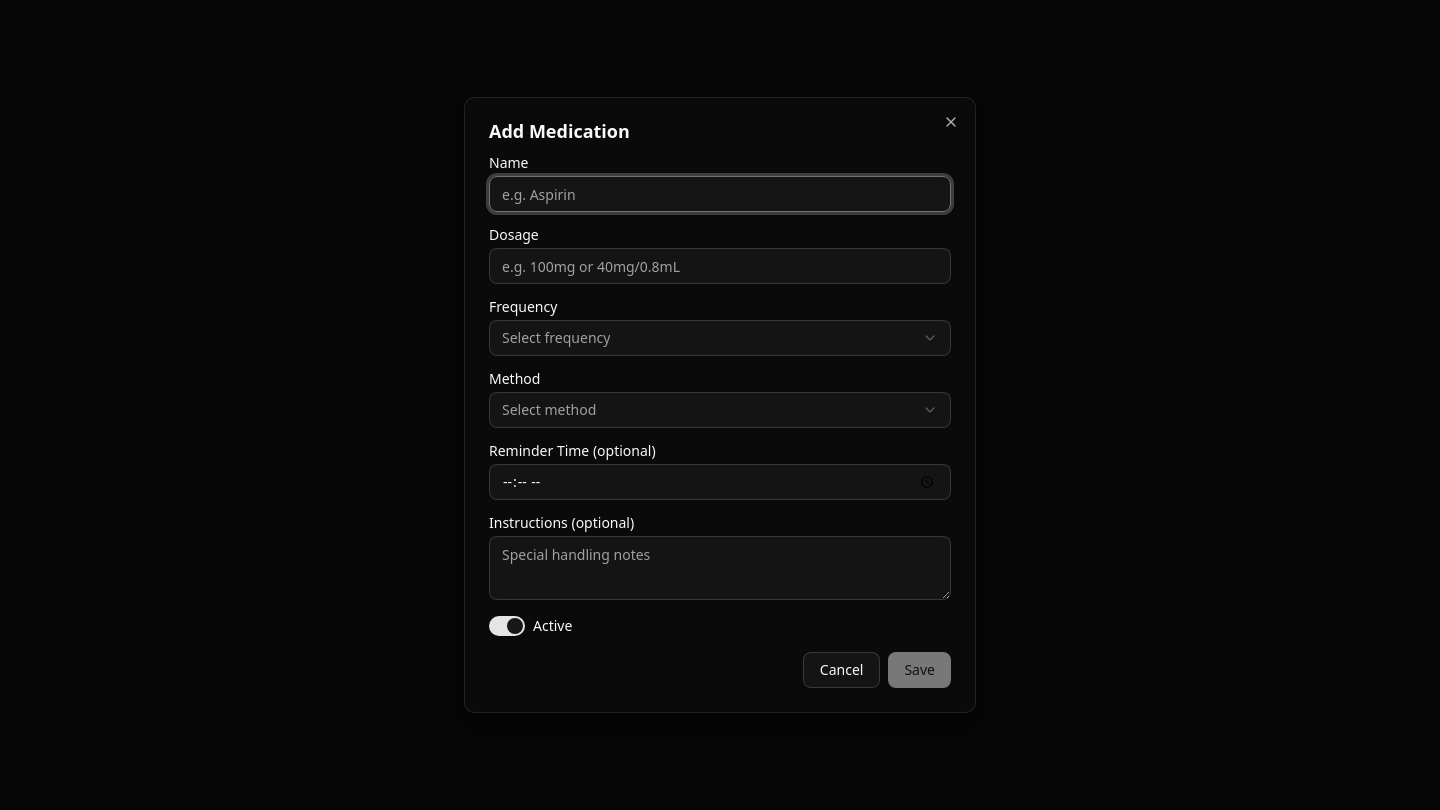
Scenario: MedicationForm › switching Frequency to Daily clears Scheduled Day from form state
Note: First set to Weekly
Click the dropdown labelled "Select frequency" at (556, 338), box [489,320,951,356]
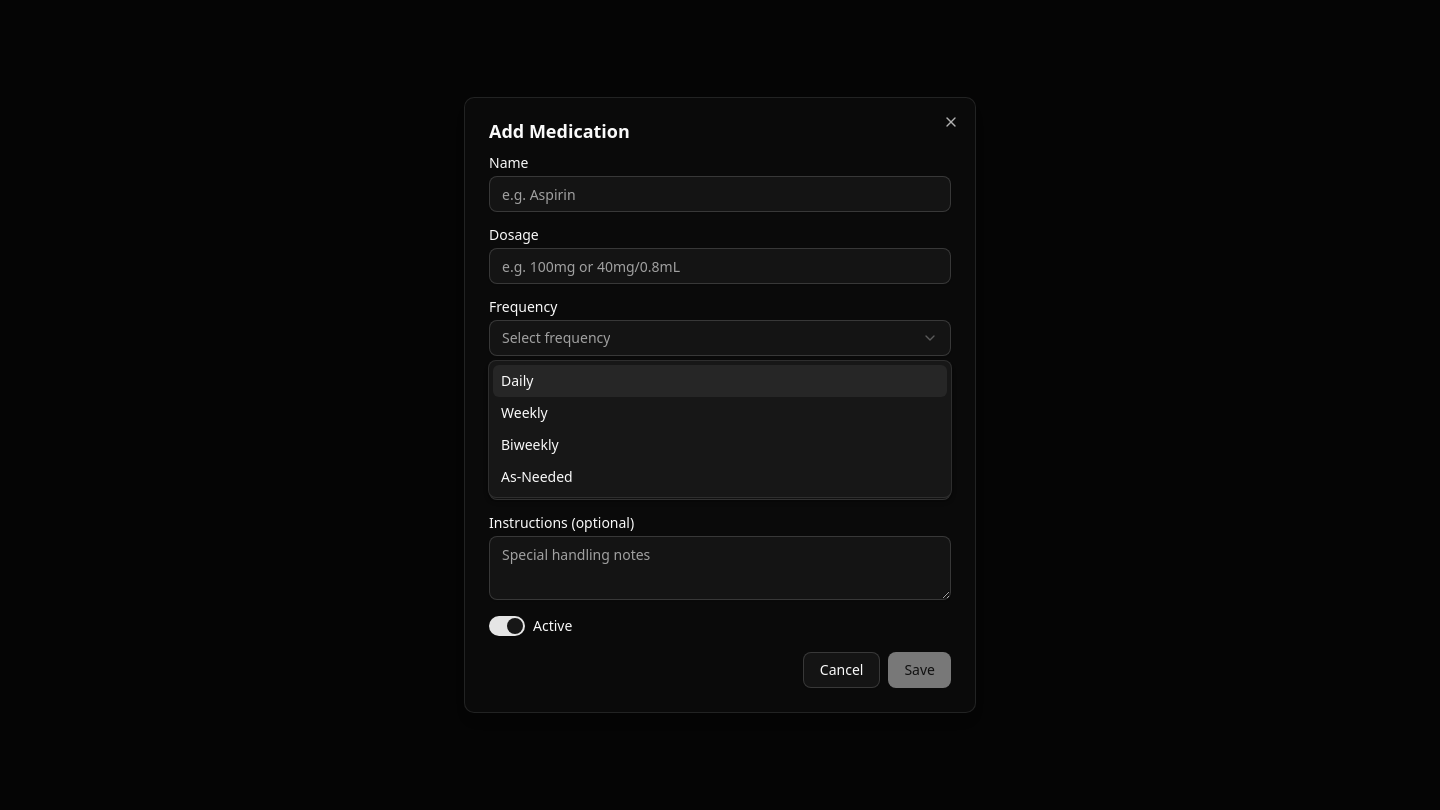
Click the option "Weekly" at (524, 412), box [501,403,548,422]
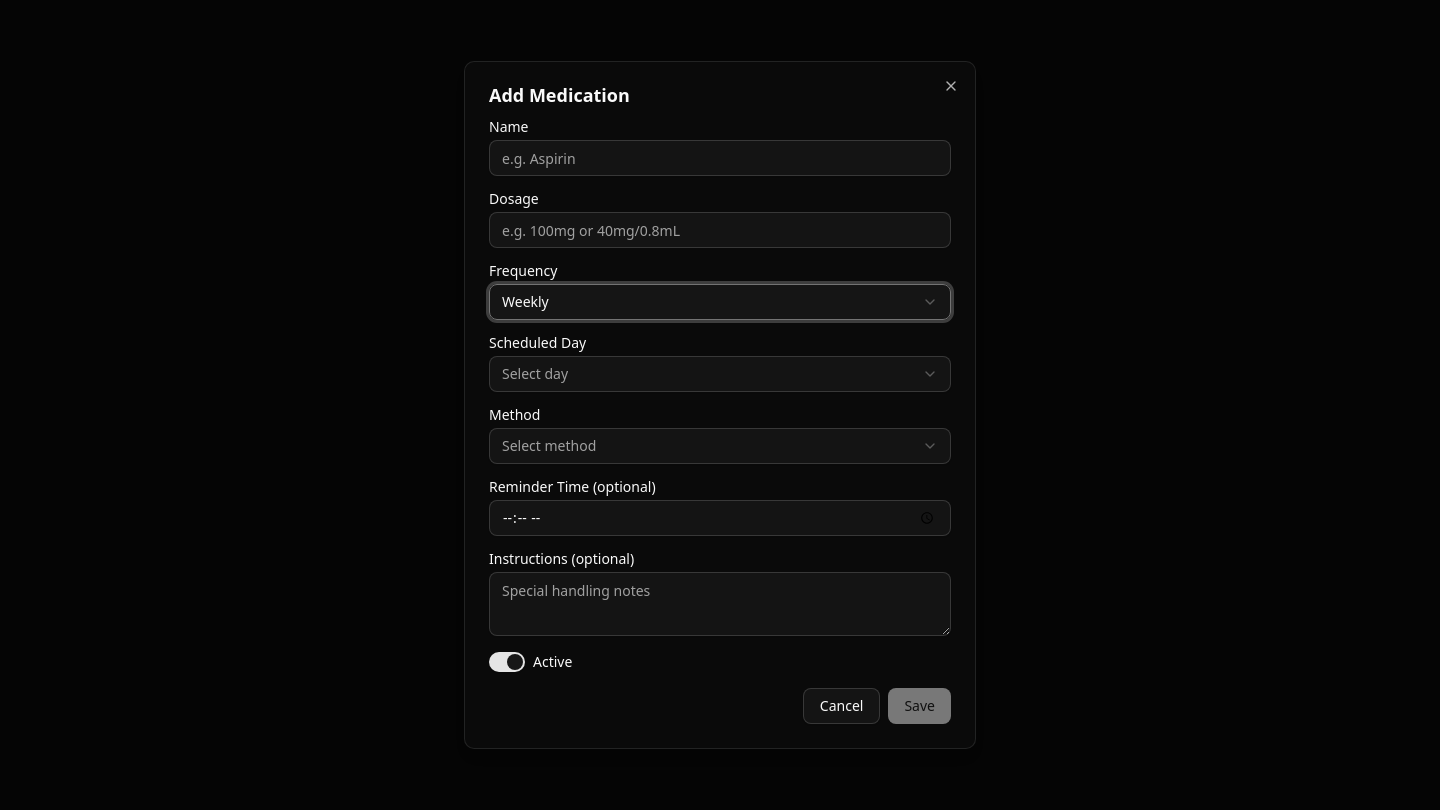
Note: Select a day
Click the dropdown named "scheduled day" at (535, 374), box [489,356,951,392]
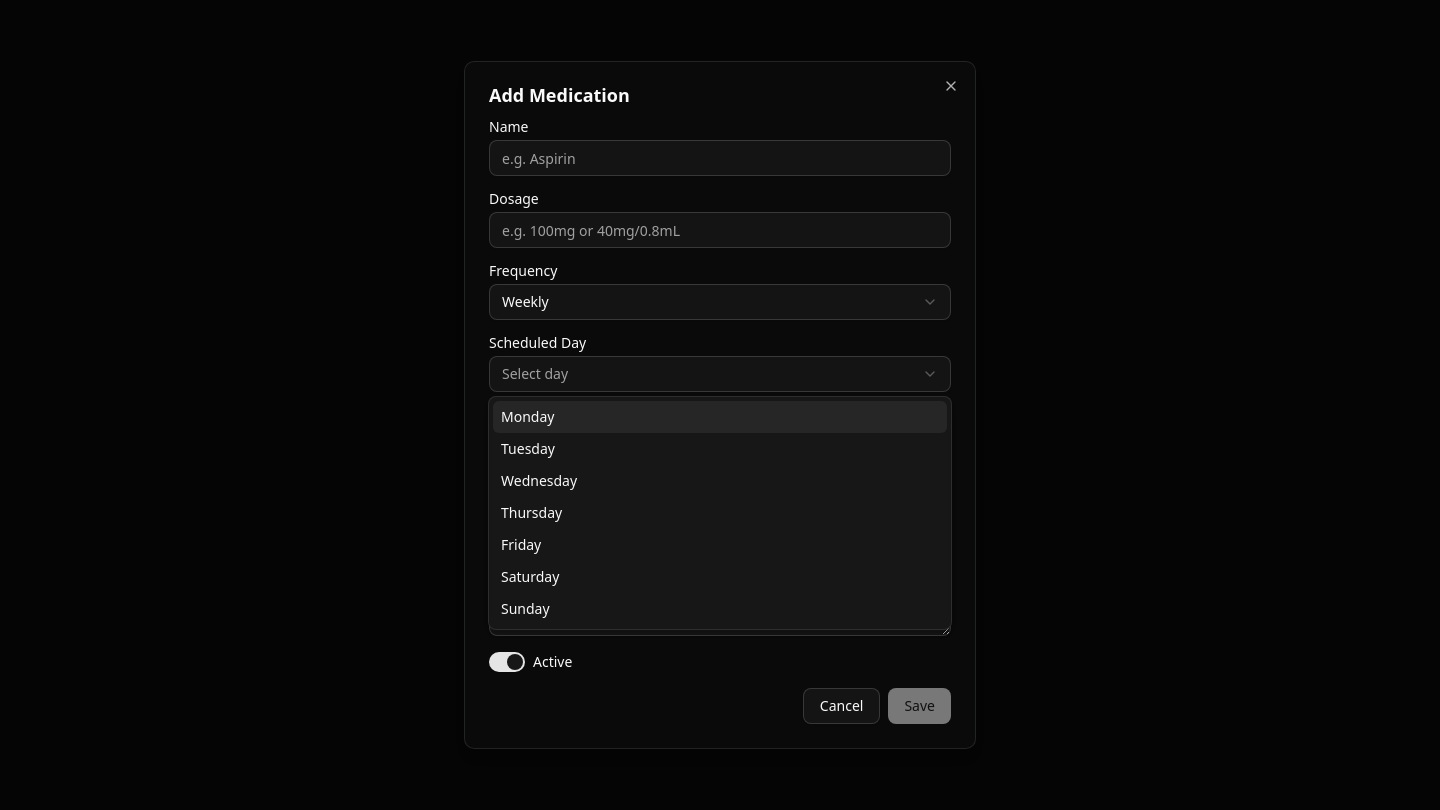
Click the option "Monday" at (528, 416), box [493,401,947,433]
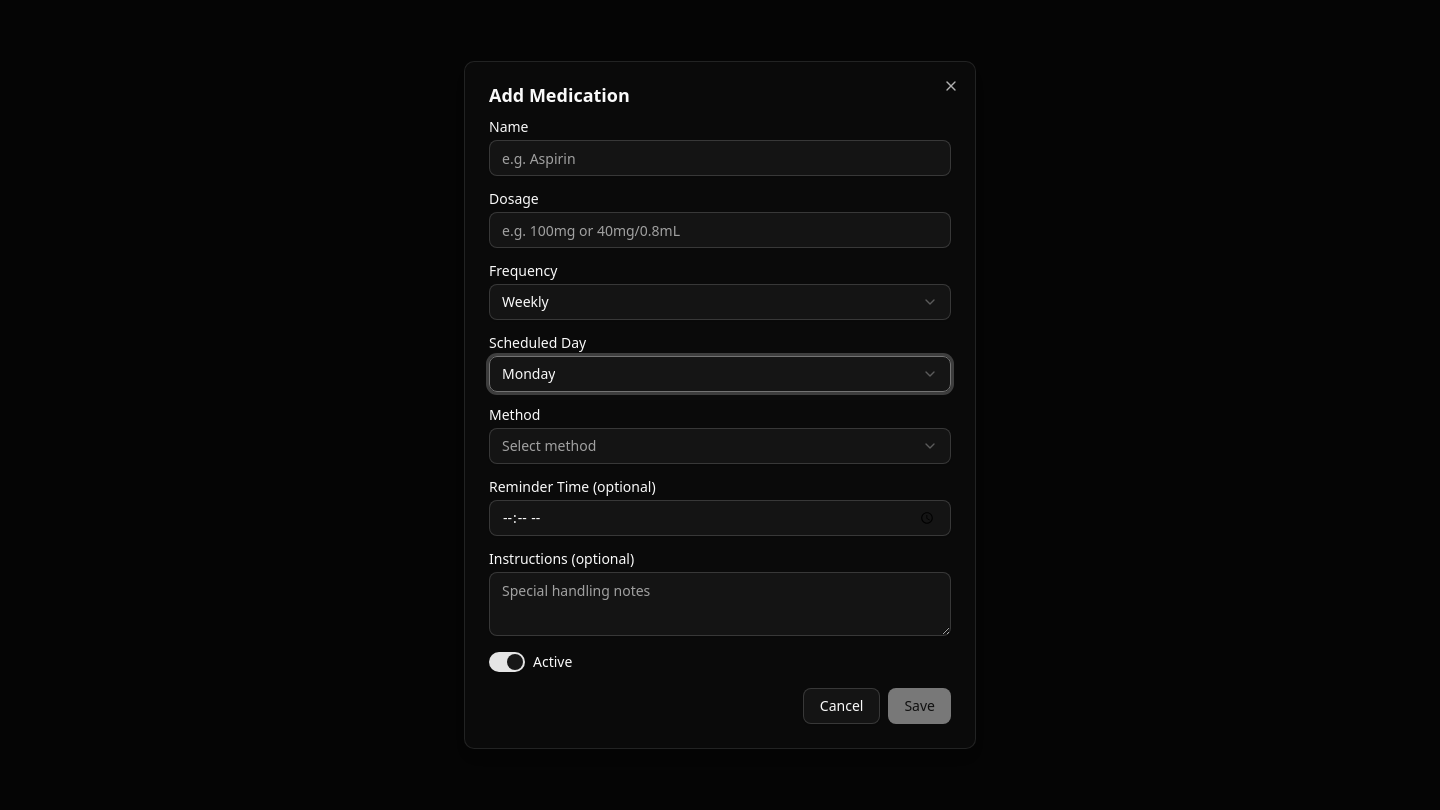
Note: Then switch to Daily
Click the dropdown named "frequency" at (525, 302), box [489,284,951,320]
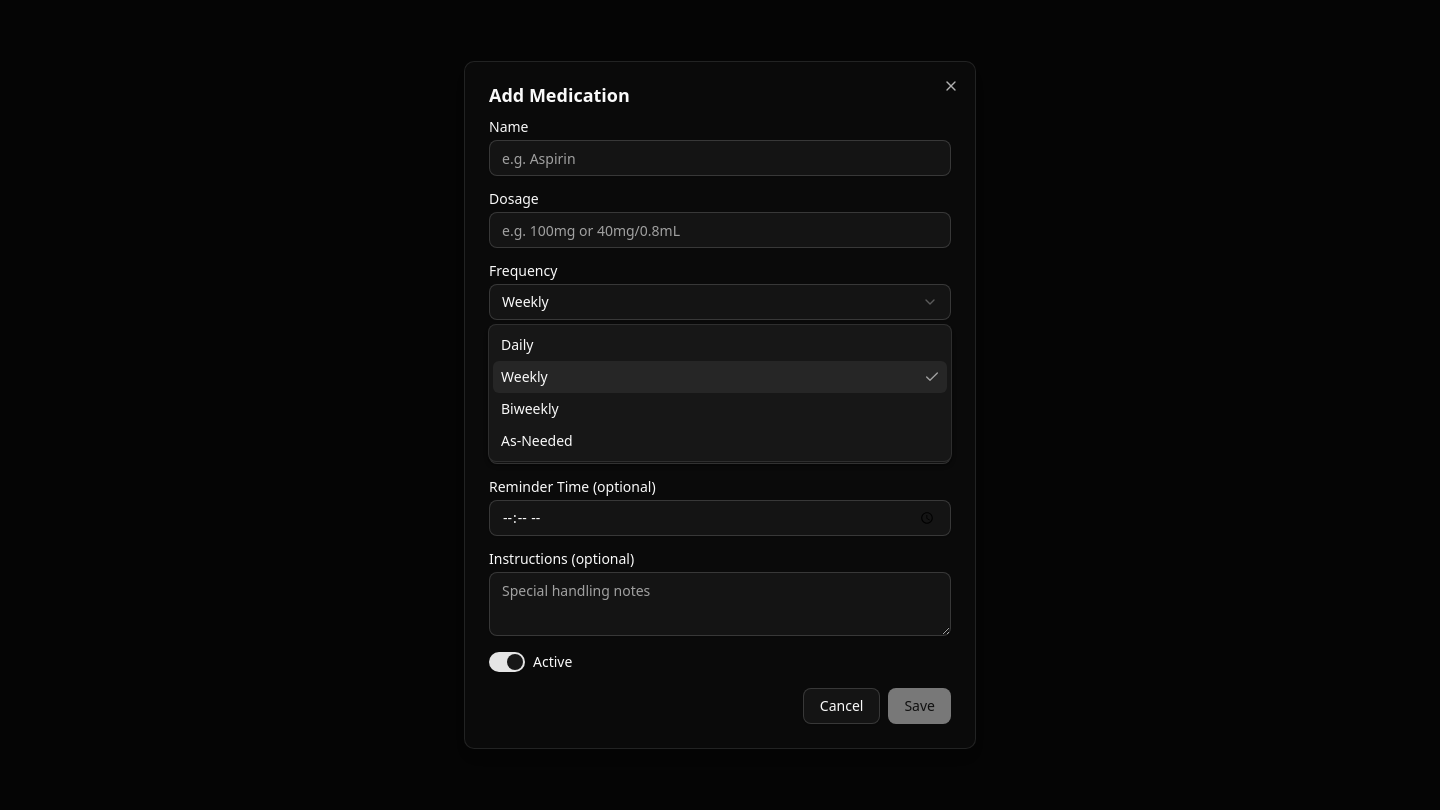
Click the option "Daily" at (517, 344), box [501,335,534,354]
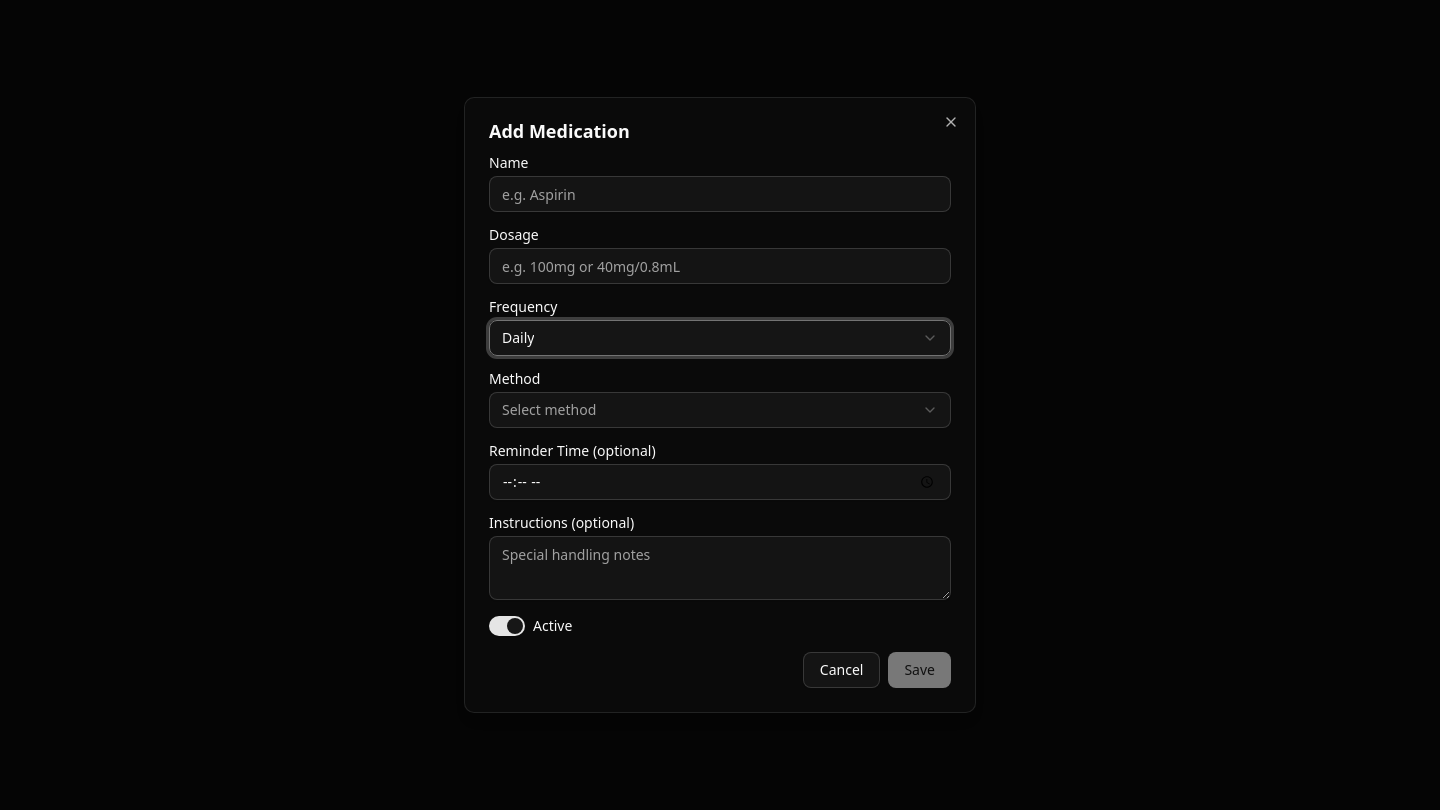
Now the label "Scheduled Day" is gone
